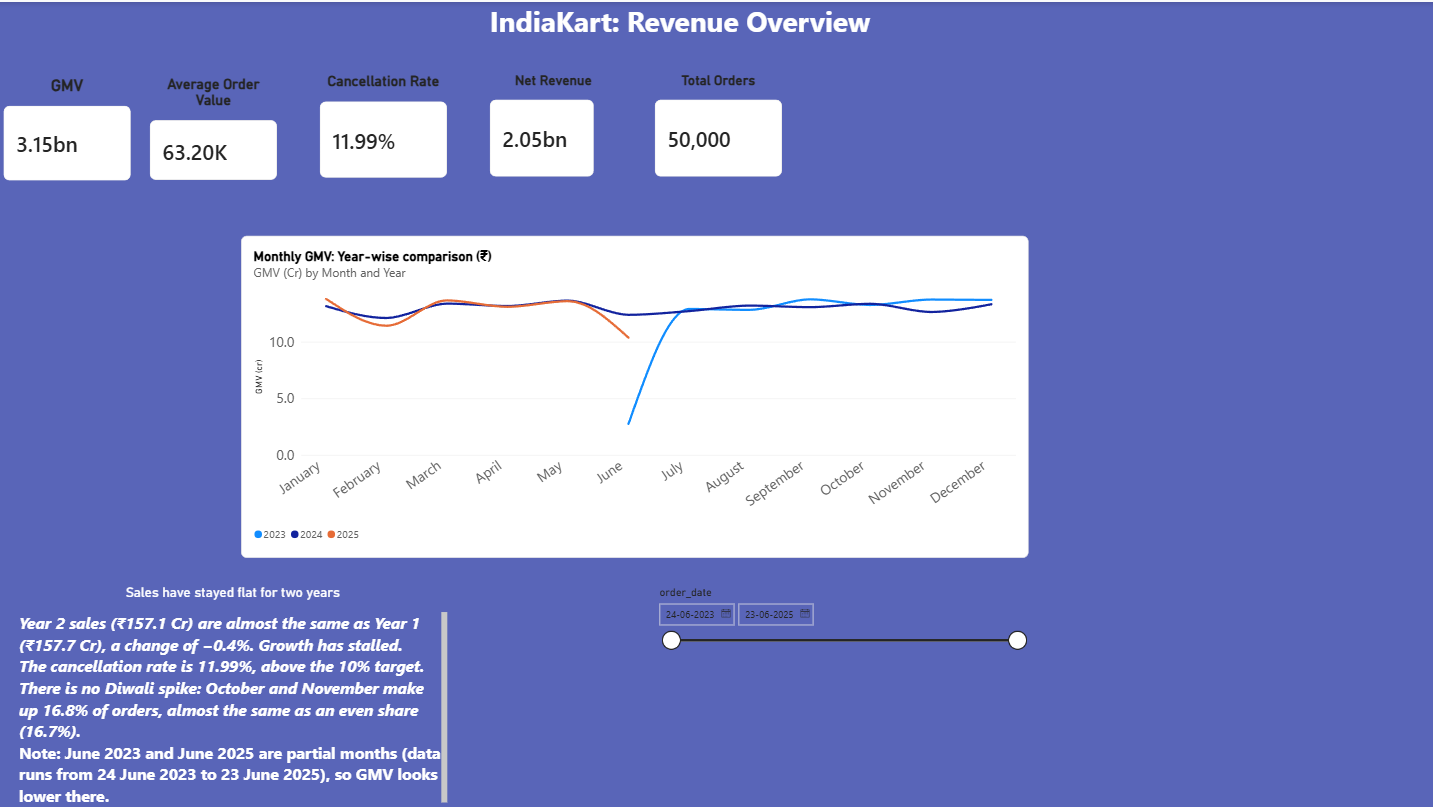

This screenshot's page, from the dashboard's own definition file:
{"tool":"powerbi","page":{"name":"Revenue Overview","canvas":[1920,1080],"ordinal":0},"visuals":[{"type":"cardVisual","title":"GMV","fields":{"Data":["orders.GMV"]},"box":[10,98,170,140],"z":0},{"type":"cardVisual","title":"Net Revenue","fields":{"Data":["orders.Net Revenue"]},"box":[660,94,170,140],"z":1000},{"type":"cardVisual","title":"Average Order Value","fields":{"Data":["orders.AOV"]},"box":[206,98,170,140],"z":2000},{"type":"cardVisual","title":"Cancellation Rate","fields":{"Data":["orders.Cancel %"]},"box":[432,96,170,140],"z":3000},{"type":"lineChart","title":"Monthly GMV: Year-wise comparison (₹)","fields":{"Category":["orders.order_date.Variation.Date Hierarchy.Month"],"Series":["orders.order_date.Variation.Date Hierarchy.Year"],"Y":["orders.GMV (Cr)"]},"box":[328,312,1052,430],"z":4000},{"type":"slicer","fields":{"Values":["orders.order_date"]},"box":[800,778,502,302],"z":5000},{"type":"cardVisual","title":"Total Orders","fields":{"Data":["orders.Total Orders"]},"box":[880,94,170,140],"z":6000},{"type":"textbox","title":" Sales have stayed flat for two years","box":[30,777.5,572.5,302.5],"z":7000},{"type":"textbox","box":[660,0,534,66],"z":8000}]}

Visuals, with their boxes in screenshot pixels (x1, y1, x2, y2), scaled from the page's 1920x1080 canvas onto the 1433x807 screenshot:
"GMV" cardVisual: select_region(7, 73, 134, 178)
"Net Revenue" cardVisual: select_region(493, 70, 619, 175)
"Average Order Value" cardVisual: select_region(154, 73, 281, 178)
"Cancellation Rate" cardVisual: select_region(322, 72, 449, 176)
"Monthly GMV: Year-wise comparison (₹)" lineChart: select_region(245, 233, 1030, 554)
slicer - orders.order_date: select_region(597, 581, 972, 806)
"Total Orders" cardVisual: select_region(657, 70, 784, 175)
" Sales have stayed flat for two years" textbox: select_region(22, 581, 450, 806)
textbox: select_region(493, 0, 891, 49)
